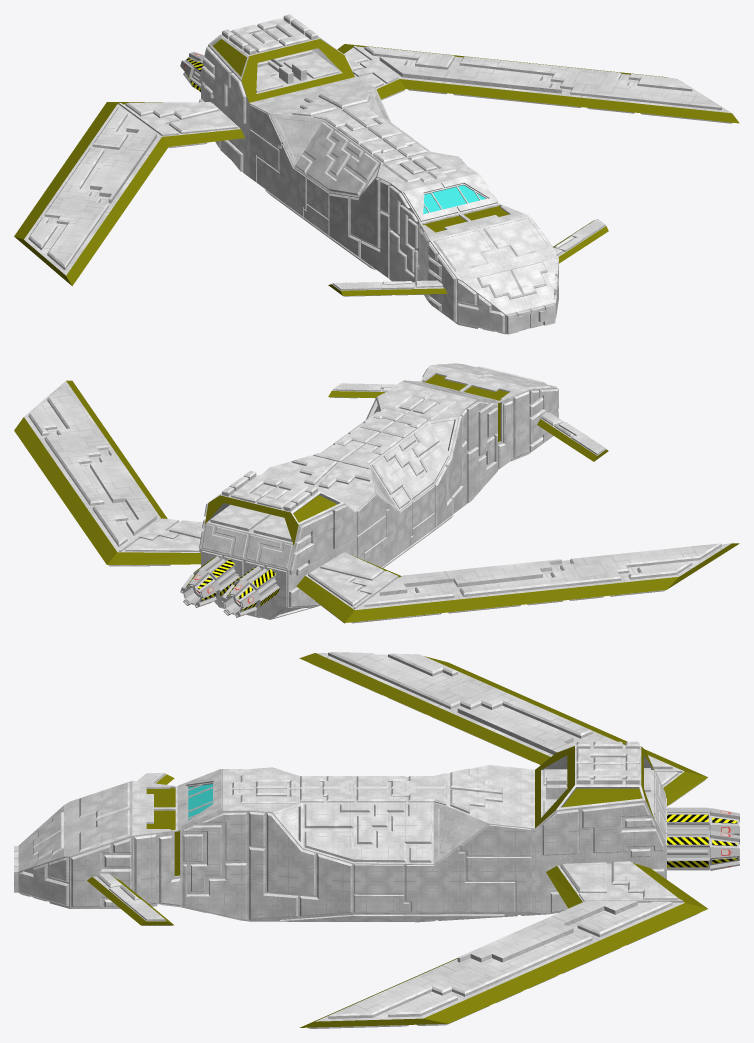
The model's file is runabout.obj.
3 renders of one model, top to bottom at view 1: azimuth 30°, elevation 25°; view 2: azimuth 150°, elevation 25°; view 3: azimuth 270°, elevation 25°, orthographic. The views are drawn at different scales.
Parts seen in each view (by area): view 1: Mesh.004, Mesh.005, Mesh.003, Mesh.009; view 2: Mesh.004, Mesh.005, Mesh.009; view 3: Mesh.004, Mesh.005, Mesh.009, Mesh.003.
Boxes of the visible parts, bbox=[...] form: Mesh.004: bbox=[24, 14, 732, 334]; Mesh.005: bbox=[14, 39, 739, 295]; Mesh.003: bbox=[423, 185, 485, 214]; Mesh.009: bbox=[180, 52, 205, 91]; Mesh.004: bbox=[24, 363, 731, 623]; Mesh.005: bbox=[14, 374, 739, 622]; Mesh.009: bbox=[180, 556, 279, 617]; Mesh.004: bbox=[14, 652, 706, 1028]; Mesh.005: bbox=[87, 653, 707, 1027]; Mesh.009: bbox=[667, 807, 739, 870]; Mesh.003: bbox=[188, 784, 212, 820].
Size of the model in its own units: 31.68 by 5.76 by 26.29.
